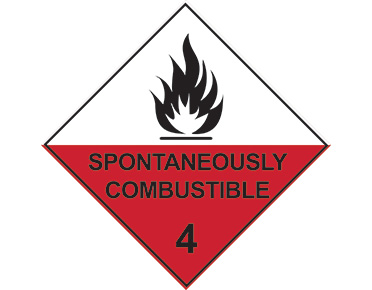SpontaneouslyCombustible: (40, 2, 331, 290)
